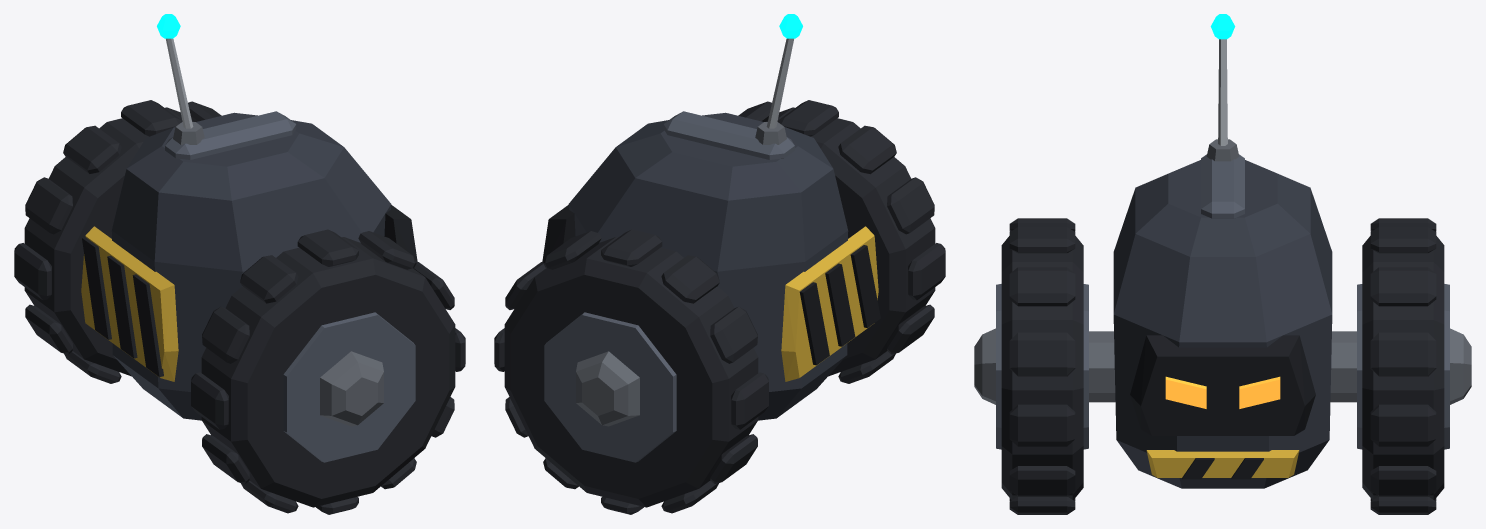
File: Roller.fbx
3 views of the same model, side by side, from view 1: azimuth 30°, elevation 25°; view 2: azimuth 150°, elevation 25°; view 3: azimuth 270°, elevation 25° (orthographic). The views are drawn at different scales.
Parts seen in each view (by area): view 1: Body, WheelR_Tyre, WheelR_Hub, WheelL_Tyre, Hazard, WheelR_Cap, Spine, WheelL_Lug5, WheelR_Lug5, WheelL_Lug4, WheelR_Lug4, HazardBar0 (+15 smaller); view 2: Body, WheelL_Tyre, WheelL_Hub, WheelR_Tyre, Hazard, WheelL_Cap, Spine, WheelL_Lug5, WheelR_Lug5, WheelR_Lug4, WheelL_Lug4, WheelR_Lug6 (+15 smaller); view 3: Body, Visor, WheelL_Tyre, WheelR_Tyre, Chin, WheelL_Lug1, WheelR_Lug1, WheelL_Lug0, WheelR_Lug0, Spine, WheelL_Lug2, WheelR_Lug2 (+18 smaller).
Part boxes in pixels (<box>): Body: <box>111,112,391,420</box>; WheelR_Tyre: <box>201,237,455,507</box>; WheelR_Hub: <box>283,312,415,462</box>; WheelL_Tyre: <box>24,107,193,376</box>; Hazard: <box>81,226,178,381</box>; WheelR_Cap: <box>320,351,383,426</box>; Spine: <box>165,111,296,159</box>; WheelL_Lug5: <box>25,177,72,234</box>; WheelR_Lug5: <box>202,306,249,363</box>; WheelL_Lug4: <box>63,125,121,174</box>; WheelR_Lug4: <box>240,255,298,303</box>; HazardBar0: <box>132,274,163,377</box>; Body: <box>568,112,848,420</box>; WheelL_Tyre: <box>504,237,758,507</box>; WheelL_Hub: <box>544,312,676,462</box>; WheelR_Tyre: <box>766,107,935,376</box>; Hazard: <box>781,226,878,381</box>; WheelL_Cap: <box>576,351,639,426</box>; Spine: <box>663,111,794,159</box>; WheelL_Lug5: <box>710,306,757,363</box>; WheelR_Lug5: <box>887,177,934,234</box>; WheelR_Lug4: <box>838,125,896,174</box>; WheelL_Lug4: <box>661,255,719,303</box>; WheelR_Lug6: <box>908,243,945,300</box>; Body: <box>1113,160,1332,488</box>; Visor: <box>1130,335,1315,435</box>; WheelL_Tyre: <box>1362,236,1444,500</box>; WheelR_Tyre: <box>1001,236,1083,500</box>; Chin: <box>1146,450,1299,477</box>; WheelL_Lug1: <box>1370,332,1436,376</box>; WheelR_Lug1: <box>1009,332,1075,376</box>; WheelL_Lug0: <box>1370,404,1436,446</box>; WheelR_Lug0: <box>1009,404,1075,446</box>; Spine: <box>1201,154,1244,218</box>; WheelL_Lug2: <box>1370,267,1436,306</box>; WheelR_Lug2: <box>1009,267,1075,306</box>.
Size of the model in its own units: 1.17 by 1.81 by 1.82.
